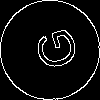G: (25, 25, 80, 76)
